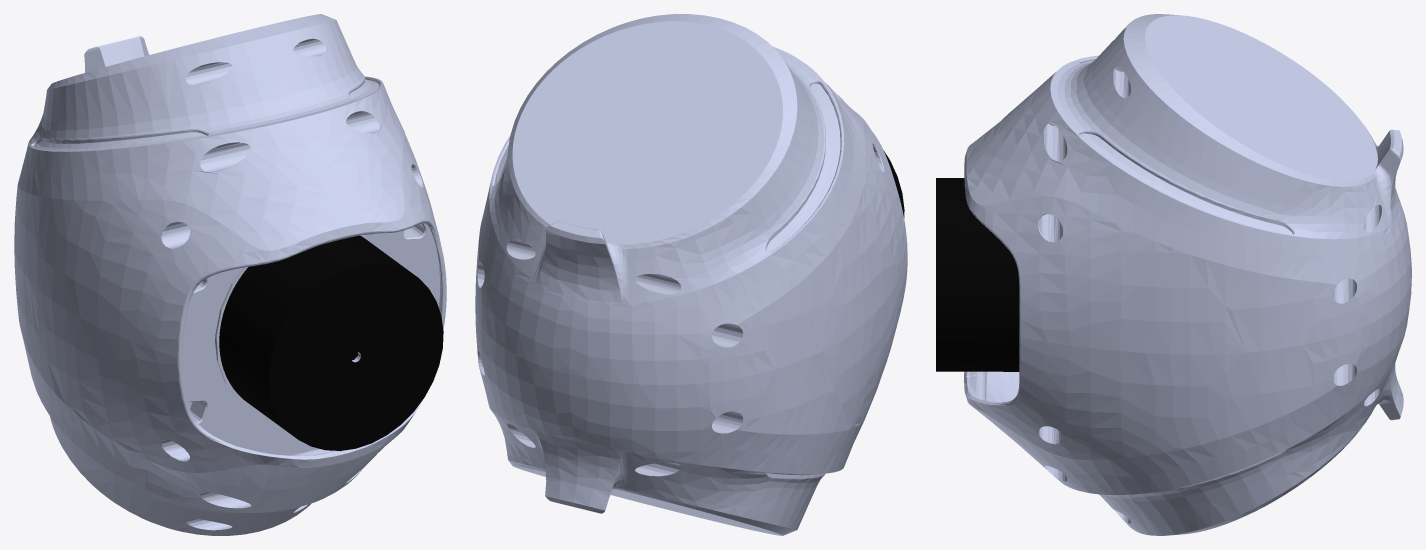
Rendered from pelvis.dae.
3 views of the same model, side by side, from view 1: azimuth 30°, elevation 25°; view 2: azimuth 150°, elevation 25°; view 3: azimuth 270°, elevation 25° (orthographic). The views are drawn at different scales.
Visible parts, largest first — view 1: pelvis; view 2: pelvis; view 3: pelvis.
Boxes of the visible parts, left/top/right/bottom form: pelvis: left=14, top=14, right=446, bottom=535; pelvis: left=475, top=14, right=907, bottom=535; pelvis: left=936, top=14, right=1411, bottom=535.
Size of the model in its own units: 0.1557 by 0.2163 by 0.1964.
